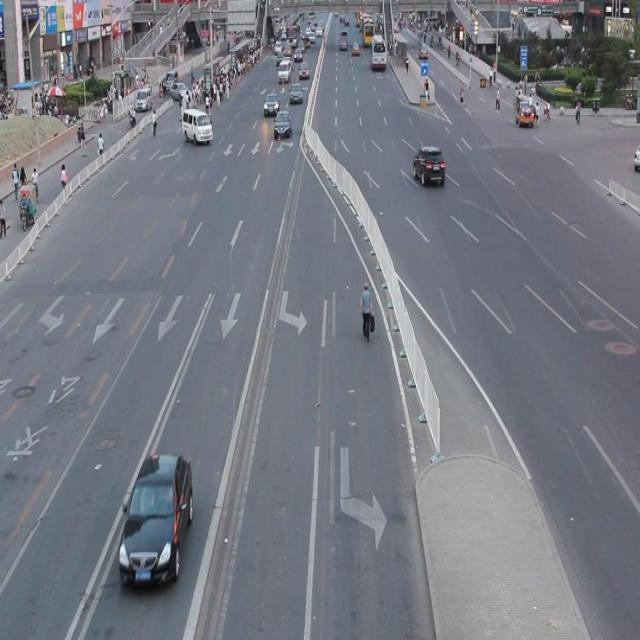car: (116, 451, 193, 587), (412, 144, 444, 188)
